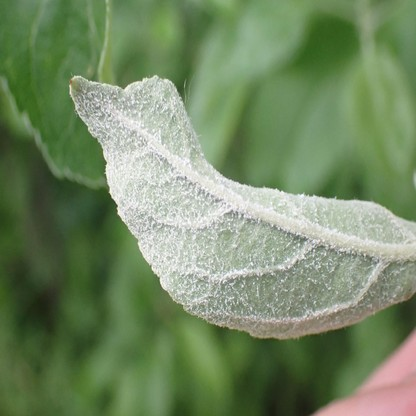powder: (70, 76, 416, 339), (18, 1, 58, 22)
